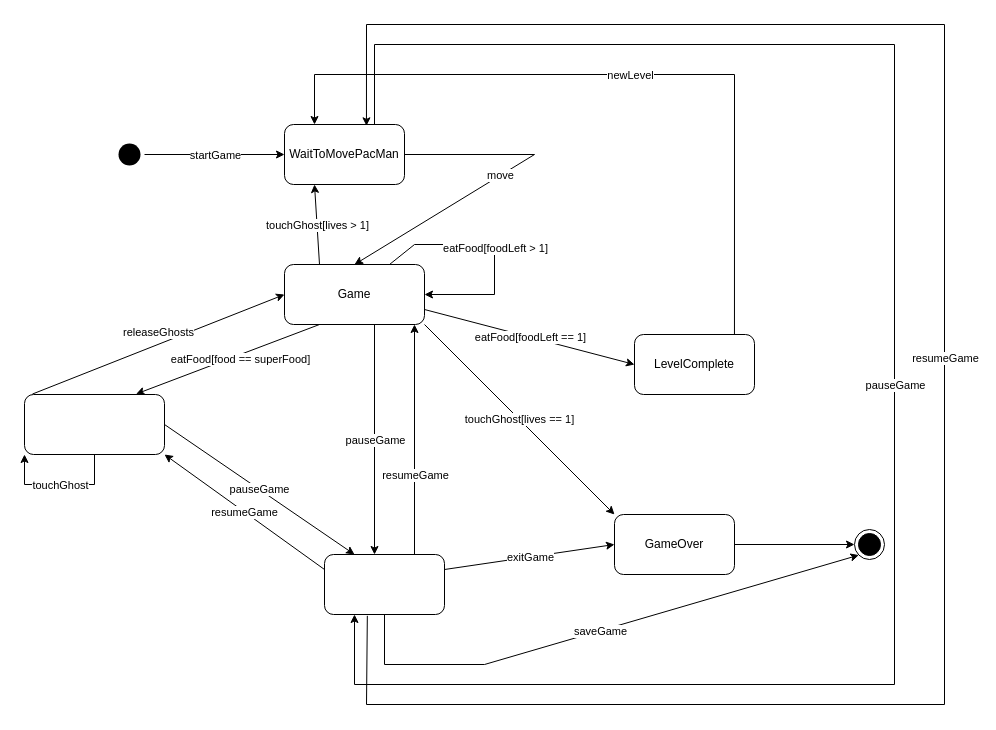
This 996x730 diagram has some shape labels left out. The centre of each missing label's shape, as x and y in pixels:
Pause: (x=384, y=584)
VulnerableGhosts: (x=94, y=424)
